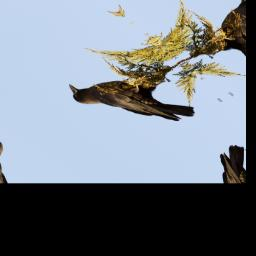Crow: (57, 51, 203, 149)
